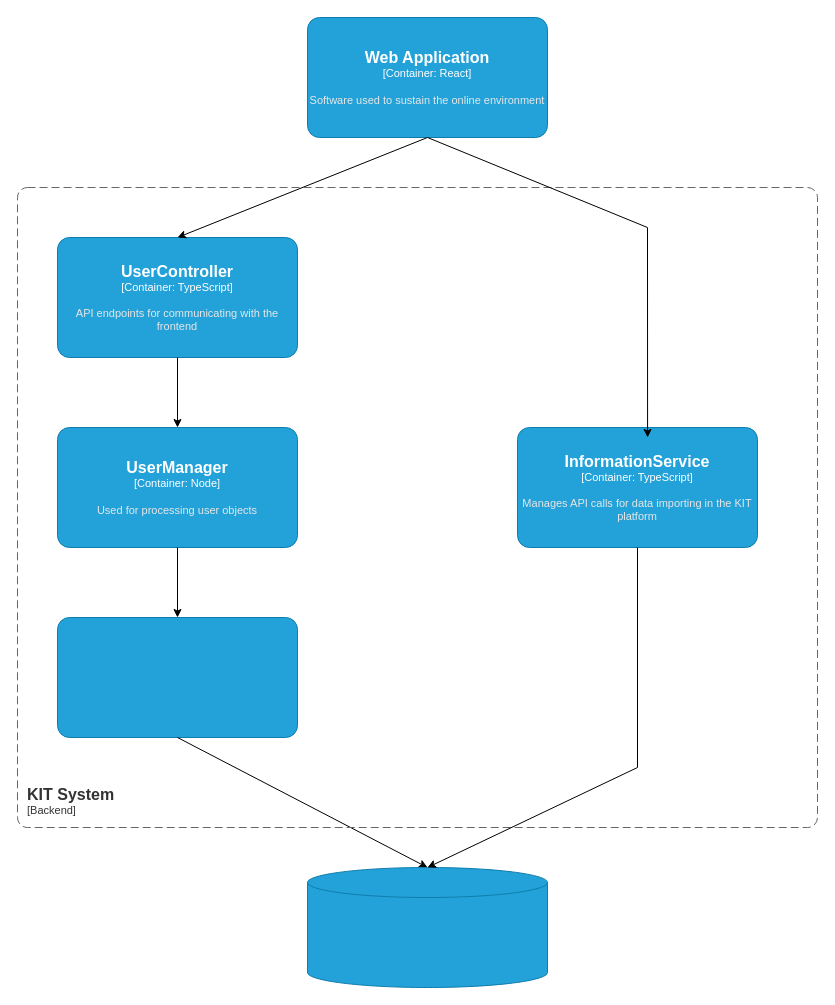
This 835x1005 diagram has some shape labels left out. The centre of each missing label's shape, as x and y in pixels:
"Database [Database: MySql] Storage for all application data" goes at [427,927].
"UserRepository [Container: Java] Database Management class" goes at [177,677].
